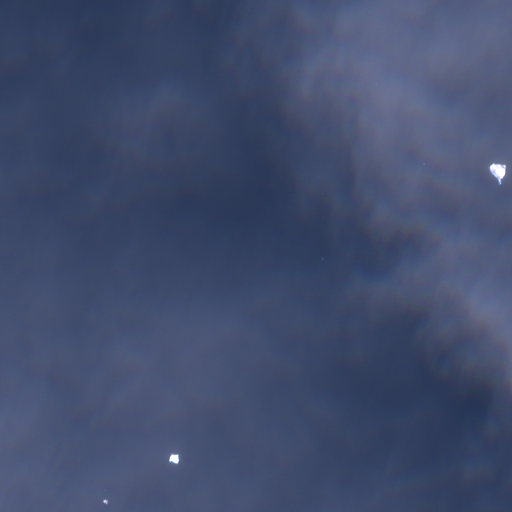Iceberg: (489, 163, 505, 184), (169, 454, 179, 463), (103, 499, 107, 504)
